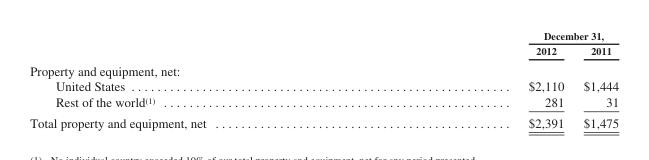table: (29, 29, 618, 129)
table column: (29, 29, 366, 129), (366, 29, 573, 129), (573, 29, 618, 129)
table column header: (29, 29, 618, 59)
table projected row header: (29, 59, 618, 78)
table row: (29, 59, 618, 78), (29, 93, 618, 111), (29, 111, 618, 129), (29, 42, 618, 59), (29, 78, 618, 93), (29, 29, 618, 42)
table spanning cell: (366, 29, 618, 42)
